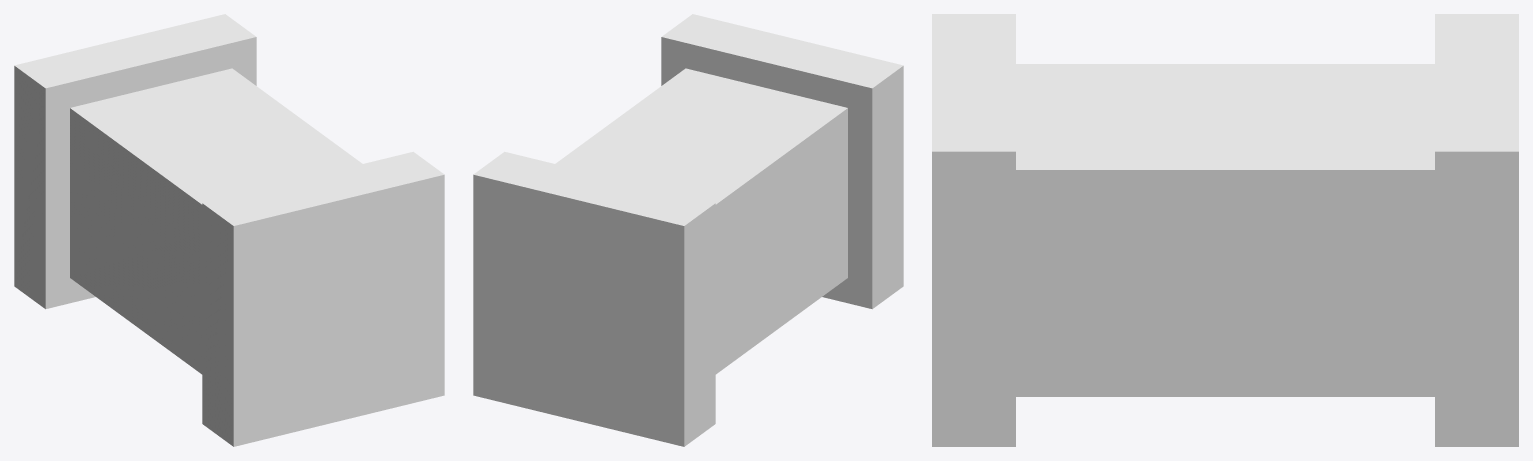
The model's file is enemy.obj.
The picture shows the model from 3 angles, left to right: view 1: azimuth 30°, elevation 25°; view 2: azimuth 150°, elevation 25°; view 3: azimuth 270°, elevation 25°; orthographic projection. The views are drawn at different scales.
Parts seen in each view (by area): view 1: 立方体; view 2: 立方体; view 3: 立方体.
Part boxes in pixels (bbox=[...]): 立方体: bbox=[14, 14, 444, 446]; 立方体: bbox=[473, 14, 903, 446]; 立方体: bbox=[932, 14, 1518, 446].
Size of the model in its own units: 1.04 by 1.04 by 1.87.
Materials: 1 (1 with a texture image).
